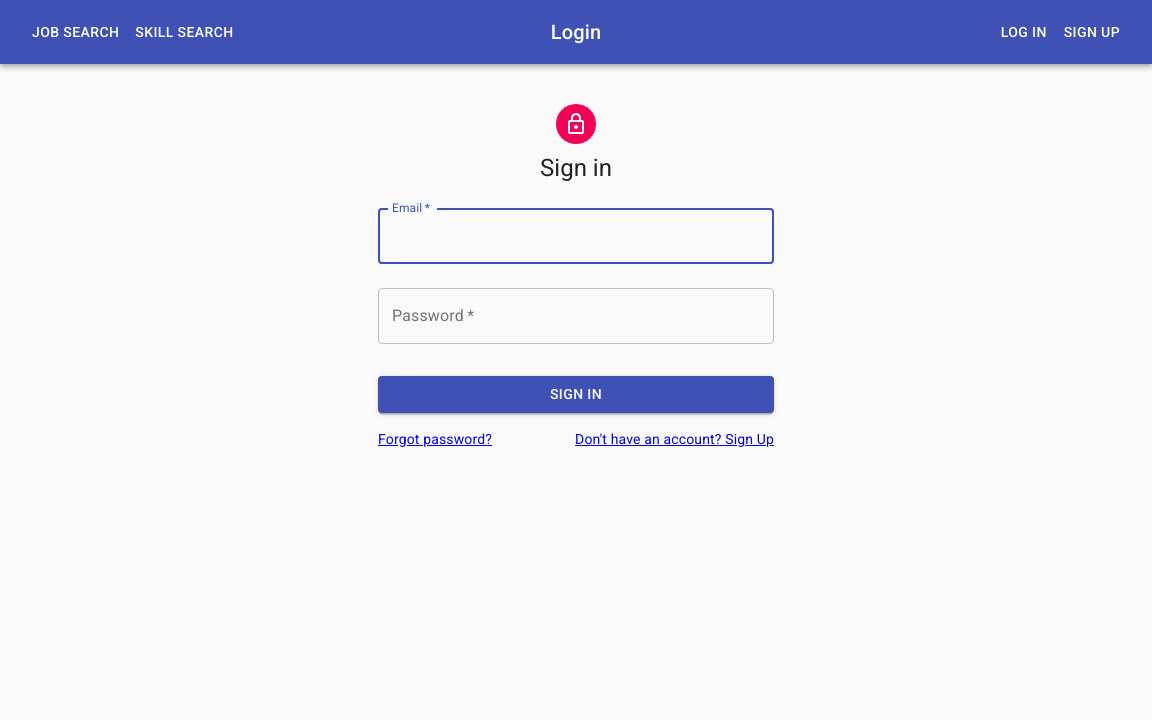
Test: Job Search › Retrieve Profile Skills- SUCCESS
The width and height of the screenshot is (1152, 720).
Type "email@email.com" into the field with id "email" at (576, 236), box [378,208,774,264]
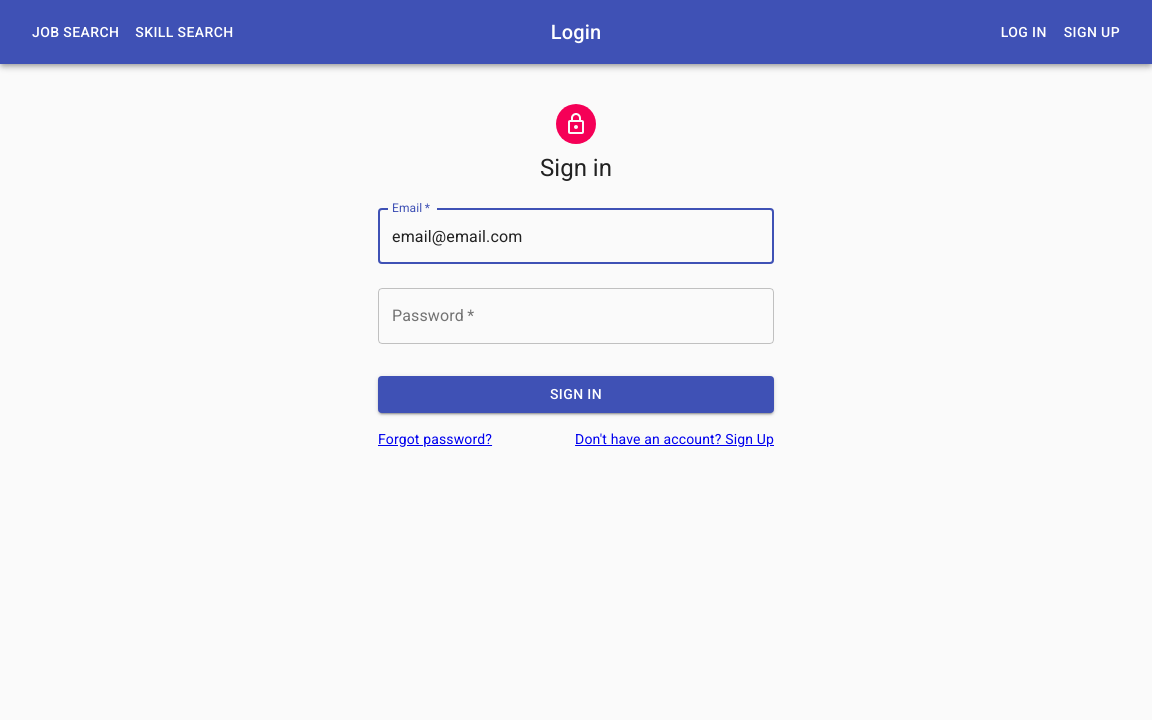
Type "password" into the password field labelled "Password *" at (576, 316), box [378,288,774,344]
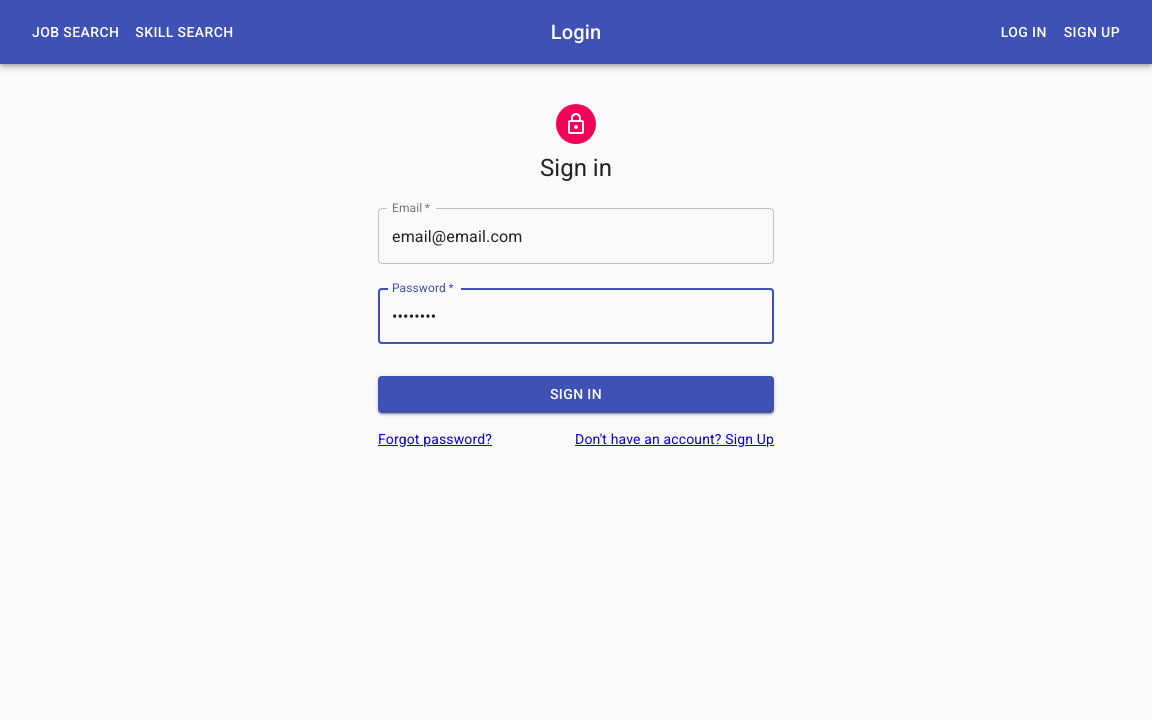
Click the button with id "submit" at (576, 395), box [378,376,774,413]
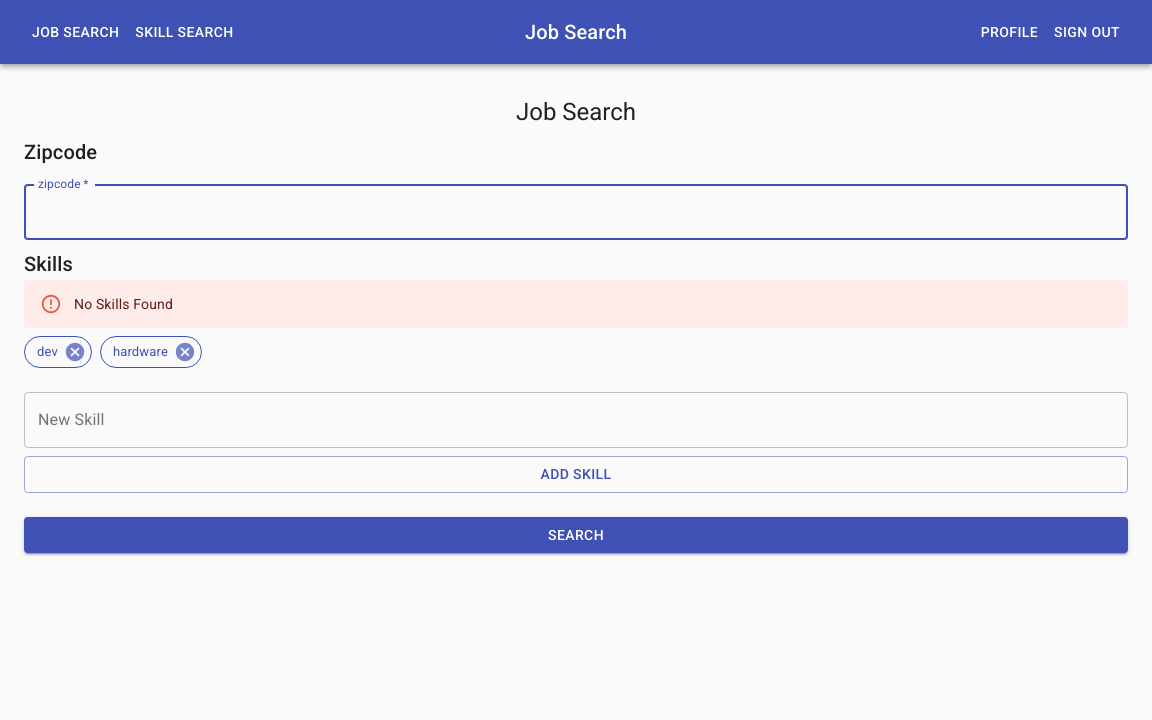
Check: the heading with id "navBarTitle" reads "Job Search", box [525,20,627,44]
Check: the text "hardware" is shown, box [113,344,168,359]
Check: the text "dev" is shown, box [37,344,58,359]
